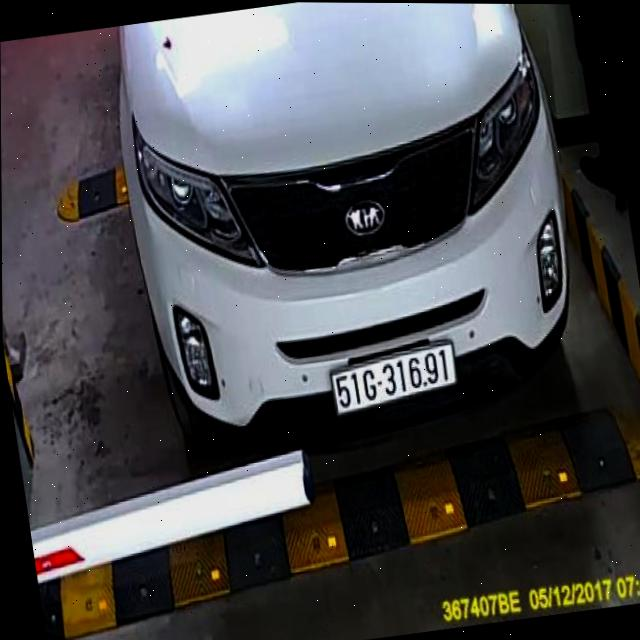car: (99, 1, 604, 492)
plate: (325, 346, 461, 417)
